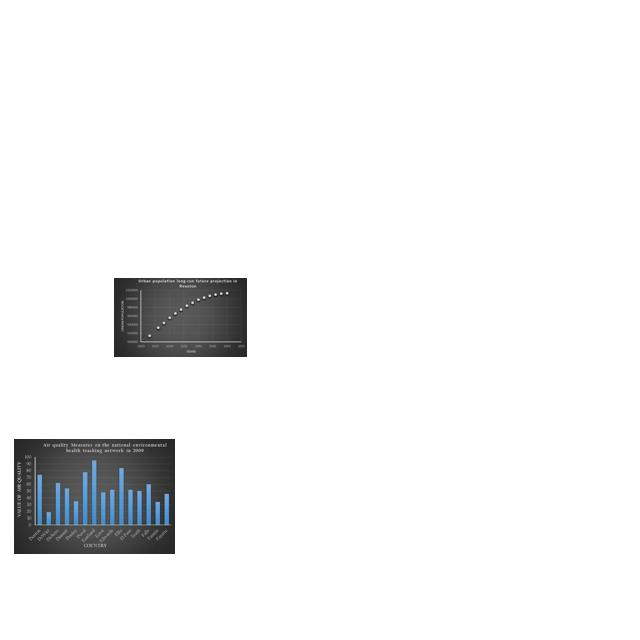Graph: (14, 439, 175, 554), (114, 278, 247, 357)
